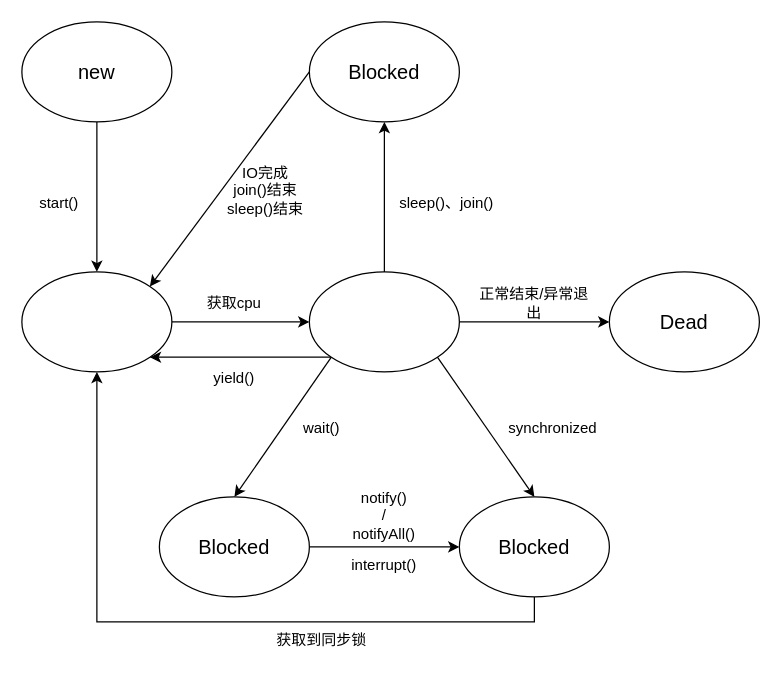
Some shapes in this 781 by 681 pixel diagram are drawn without their labels. Here are the shapes that lost their labels. From the top down, the centre of each, then its label:
At pixel 96 321: "Runnable".
At pixel 383 321: "Running".
